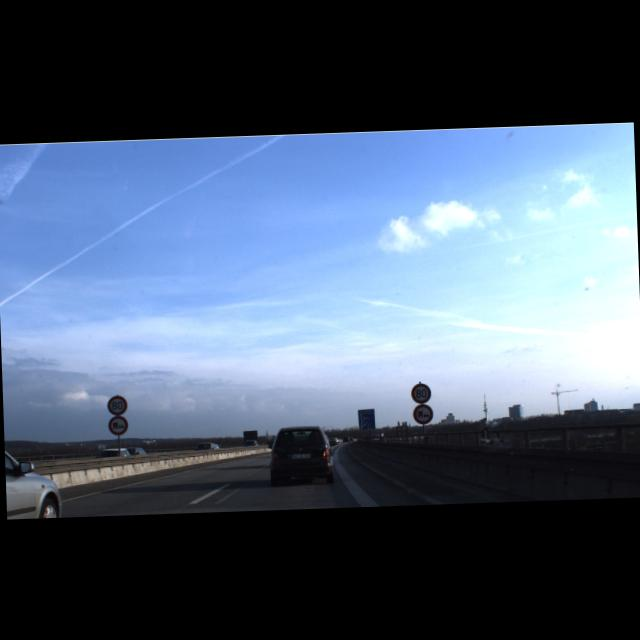prohibitory: (410, 382, 431, 403), (412, 403, 433, 424), (106, 394, 128, 414), (107, 414, 128, 434)
